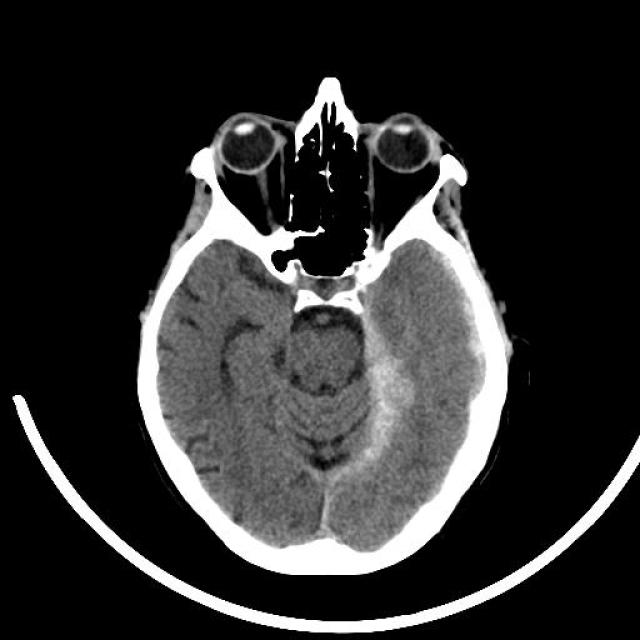Intraparenchymal: (338, 312, 428, 468)
Subdural: (425, 241, 511, 439)
